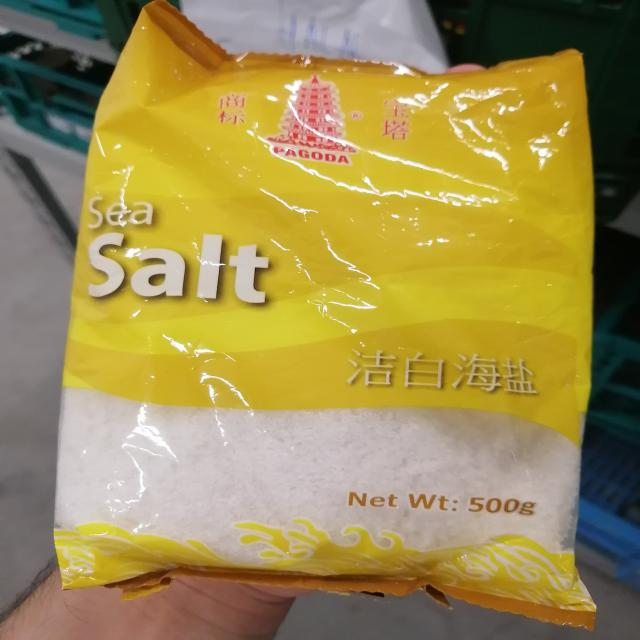object_name: (102, 48, 584, 596)
